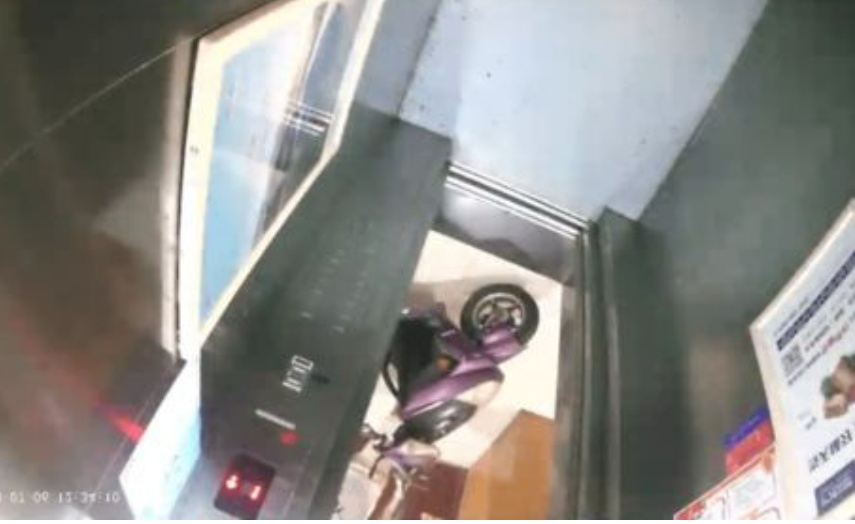ebike: (335, 283, 548, 477)
